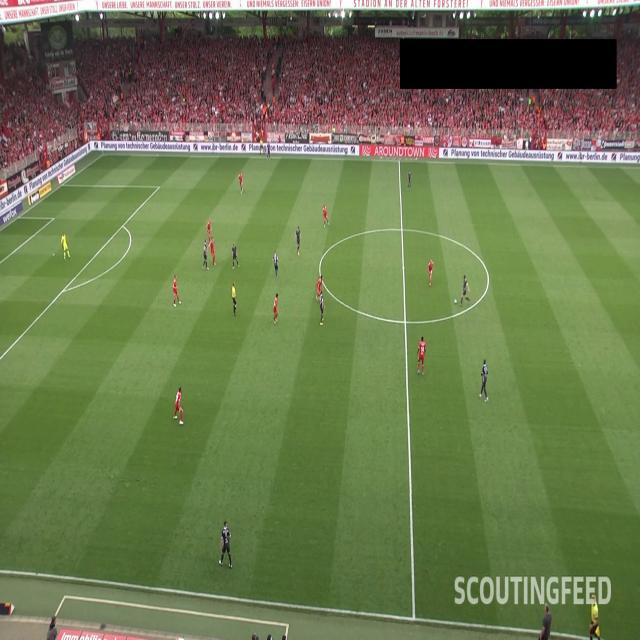ball: (453, 297, 458, 305)
goalkeeper: (61, 231, 71, 261)
player: (219, 520, 232, 568), (173, 386, 184, 426), (479, 358, 489, 402), (416, 336, 426, 375), (460, 274, 470, 306), (173, 274, 181, 306), (271, 250, 279, 281), (208, 236, 216, 266), (294, 226, 302, 256), (202, 239, 209, 271), (316, 274, 324, 302), (319, 291, 325, 327), (232, 243, 240, 270), (273, 293, 279, 324), (322, 205, 330, 228), (206, 218, 212, 247), (428, 259, 434, 286), (238, 172, 244, 194), (407, 170, 412, 190), (266, 142, 270, 162)
referee: (588, 592, 600, 640), (231, 281, 237, 316), (259, 138, 265, 156)
